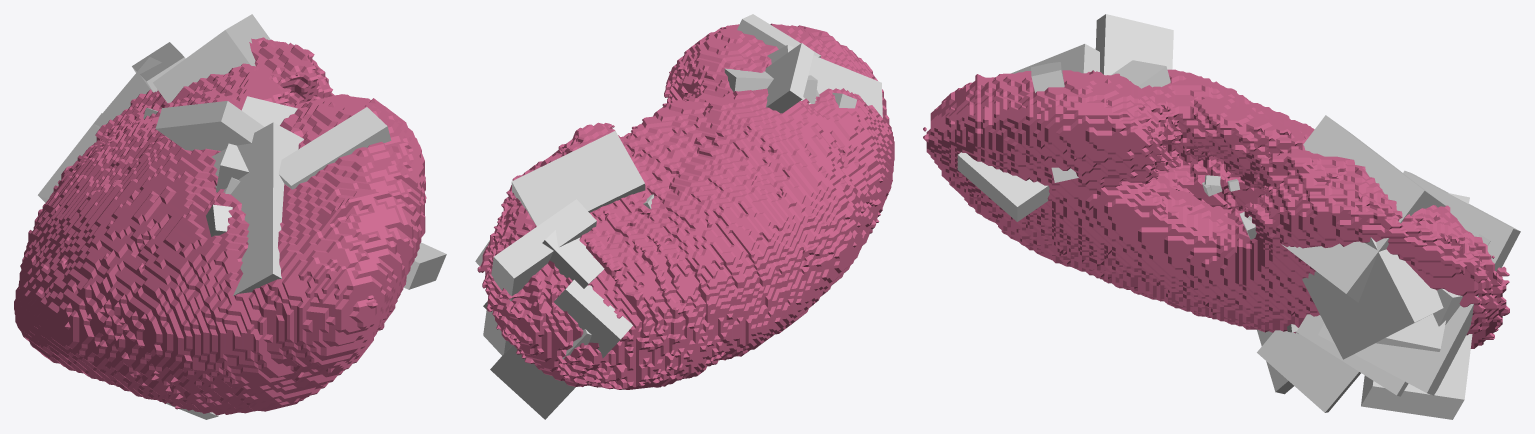
File: non_hra_mapping.glb
3 renders of one model, left to right at view 1: azimuth 30°, elevation 25°; view 2: azimuth 150°, elevation 25°; view 3: azimuth 270°, elevation 25°, orthographic. The views are drawn at different scales.
Parts seen in each view (by area): view 1: world; view 2: world; view 3: world.
Part boxes in pixels (x1,y1,x2,y2): world: (14,14,446,419); world: (475,14,894,419); world: (923,14,1520,419).
Size of the model in its own units: 86.3 by 87.19 by 137.
